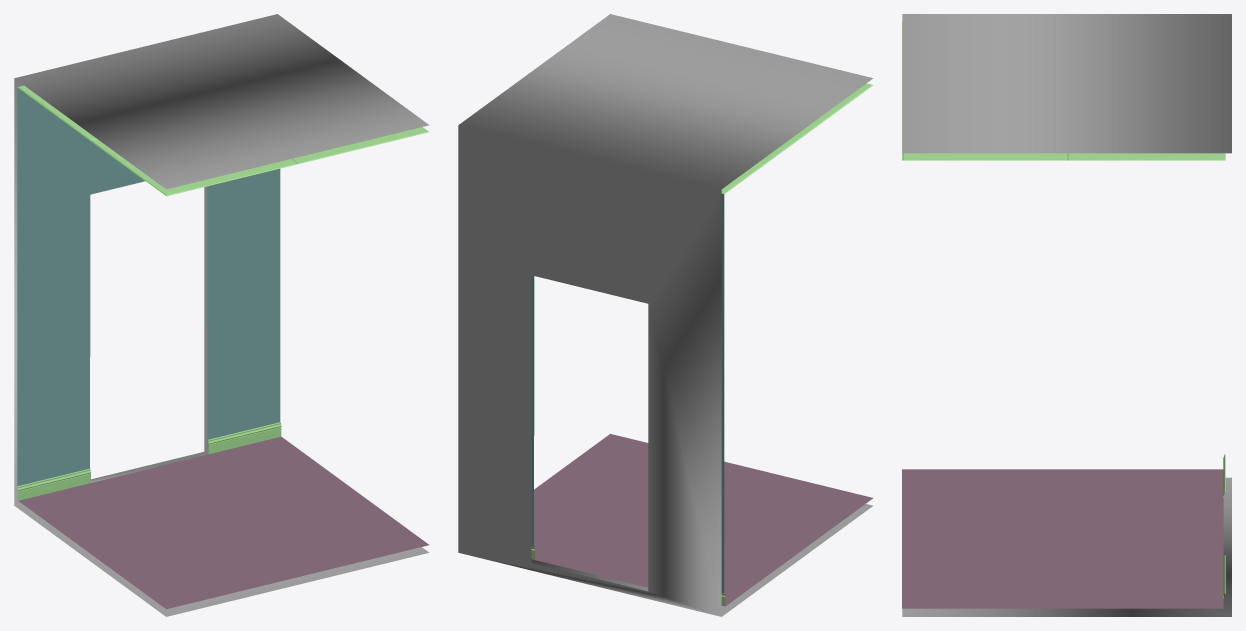
File: Room_2x2_door_frame_geo.fbx
3 renders of one model, left to right at view 1: azimuth 30°, elevation 25°; view 2: azimuth 150°, elevation 25°; view 3: azimuth 270°, elevation 25°, orthographic. The views are drawn at different scales.
Visible parts, largest first — view 1: Room_2x2_door_frame_geo; view 2: Room_2x2_door_frame_geo; view 3: Room_2x2_door_frame_geo.
Boxes of the visible parts, x1=… form: Room_2x2_door_frame_geo: x1=14, y1=14, x2=429, y2=616; Room_2x2_door_frame_geo: x1=458, y1=14, x2=873, y2=616; Room_2x2_door_frame_geo: x1=902, y1=14, x2=1231, y2=616.
Bounding box in the file's own units: 2 × 3.1 × 2.
